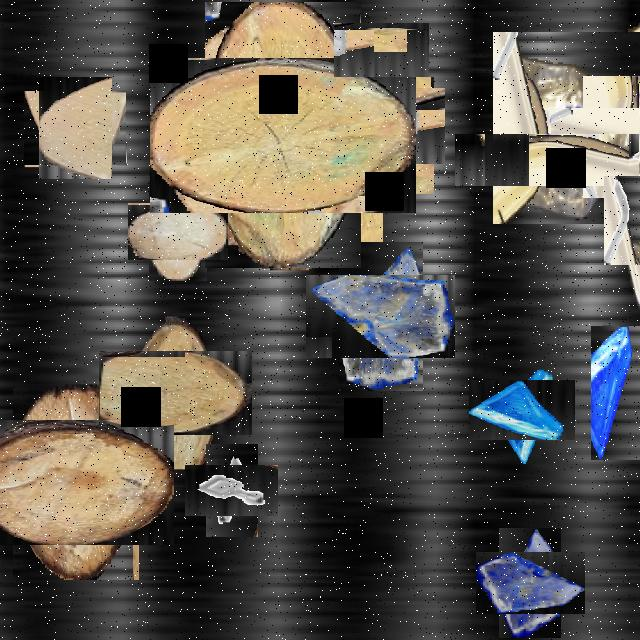glass: (323, 258, 439, 375), (324, 73, 430, 179), (487, 540, 573, 626), (480, 369, 564, 452), (591, 326, 640, 460)
metal: (344, 12, 418, 88), (196, 454, 268, 527), (604, 176, 640, 265)
plastic: (493, 32, 640, 224), (521, 67, 640, 252)
wood: (178, 29, 388, 241), (240, 50, 408, 220), (0, 401, 156, 562), (116, 334, 234, 452), (31, 84, 119, 172), (566, 92, 640, 181), (138, 192, 218, 270)
